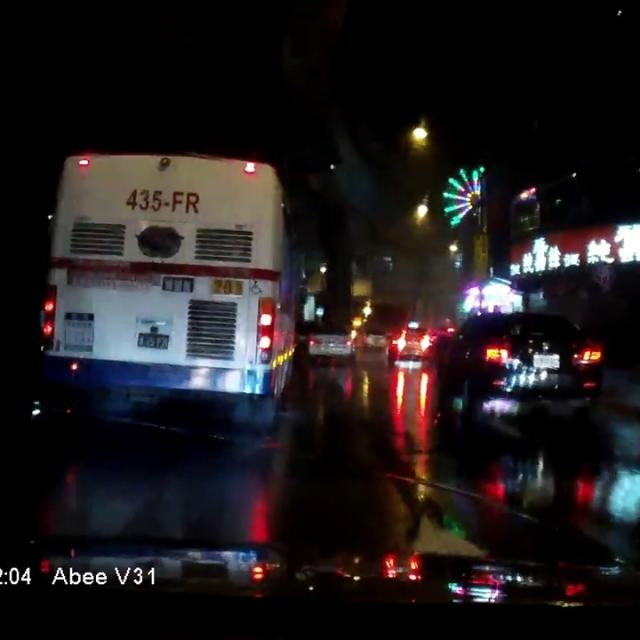Car: (429, 310, 615, 430), (306, 321, 353, 361), (387, 324, 428, 368), (354, 328, 386, 354)
